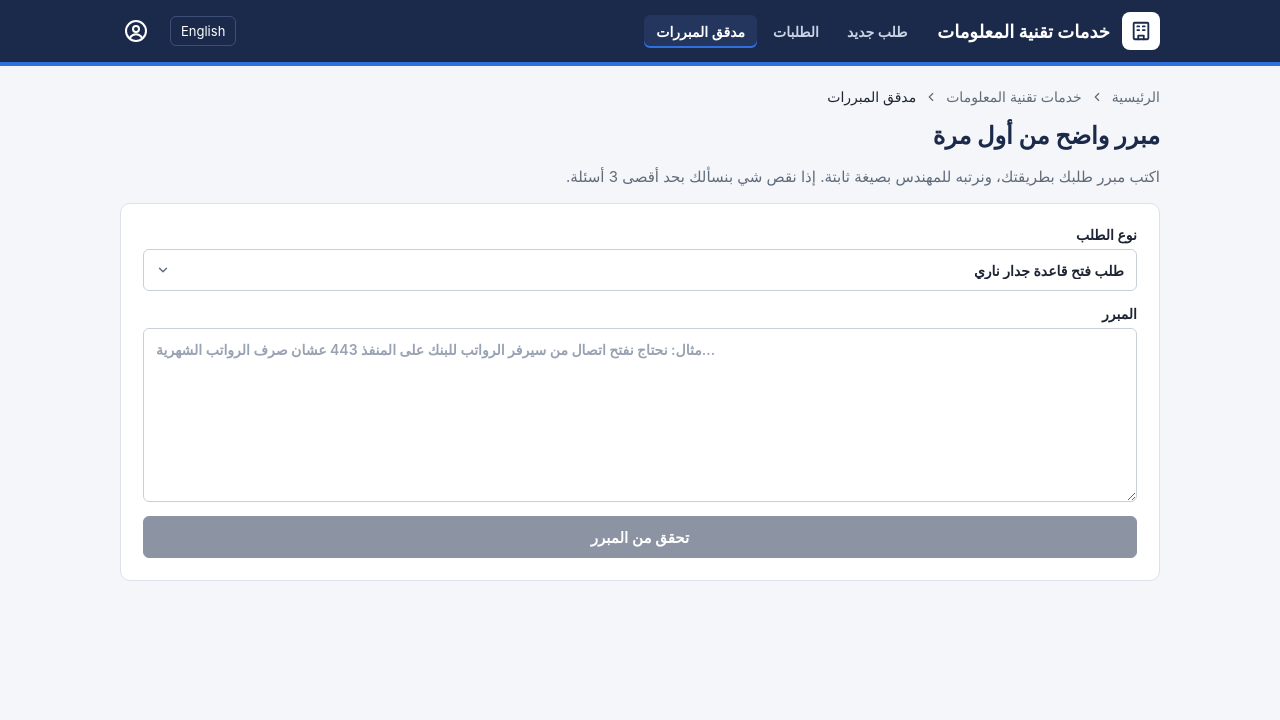
it: model outage shows a friendly message
In the text box: [640, 415] box x1=143 y1=328 x2=1137 y2=502, type "test"
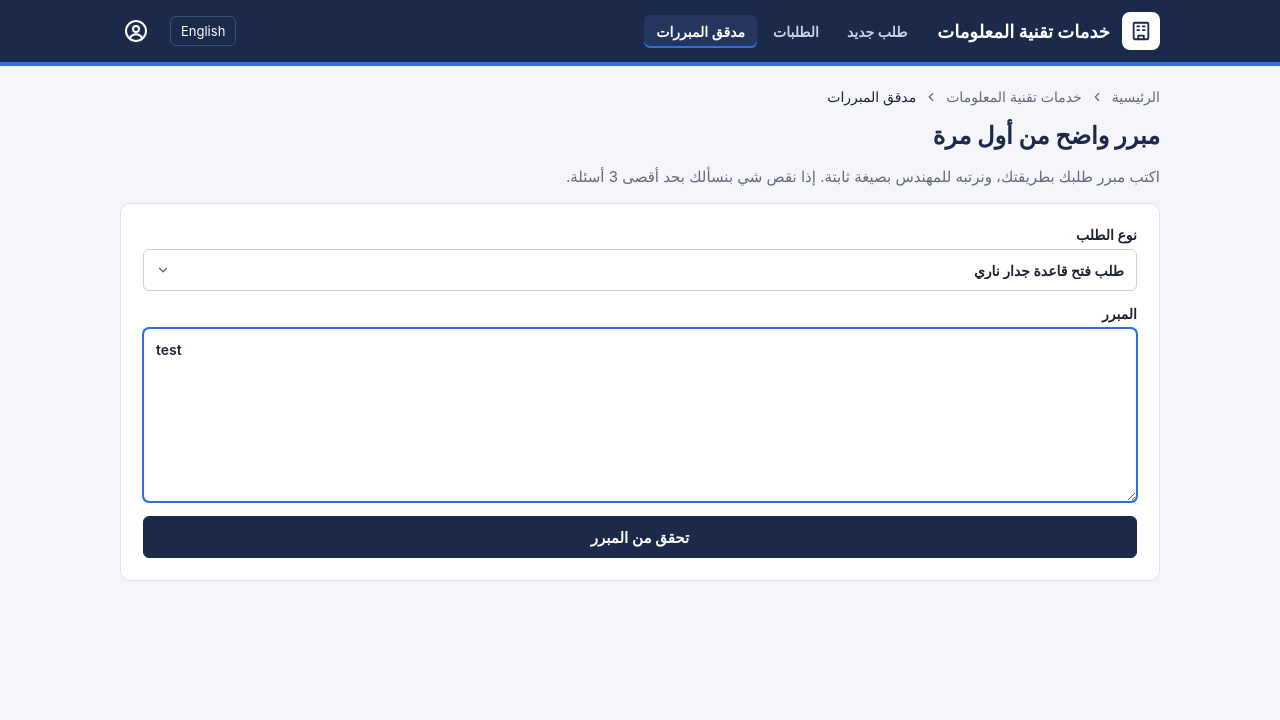
Click the button "تحقق من المبرر": [640, 537] box x1=143 y1=516 x2=1137 y2=558
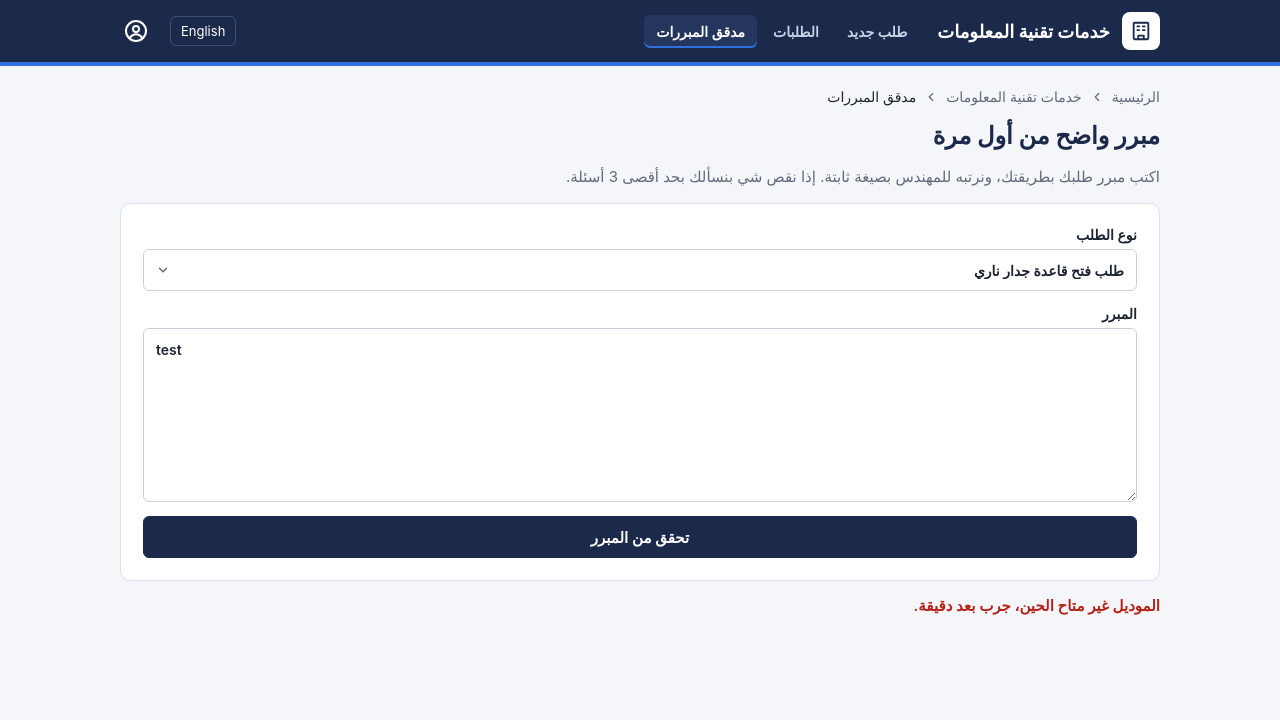
Expected: the text "الموديل غير متاح الحين، جرب بعد دقيقة." is shown, x1=914 y1=596 x2=1160 y2=615
